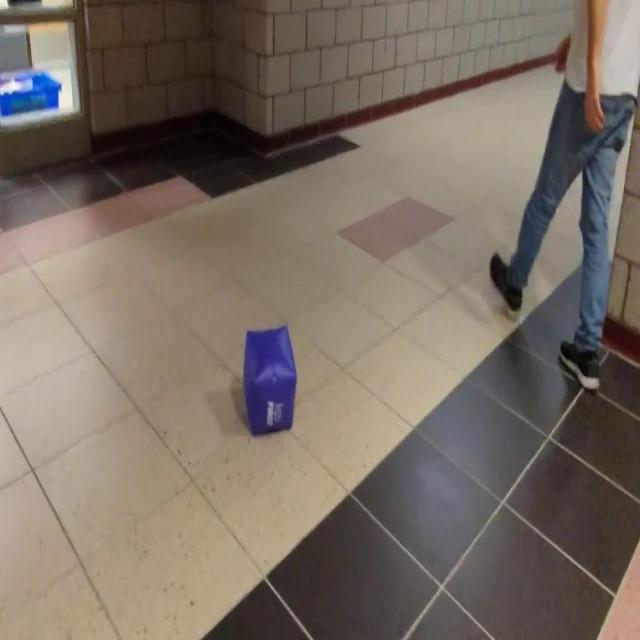frc_cube: (243, 323, 297, 437)
